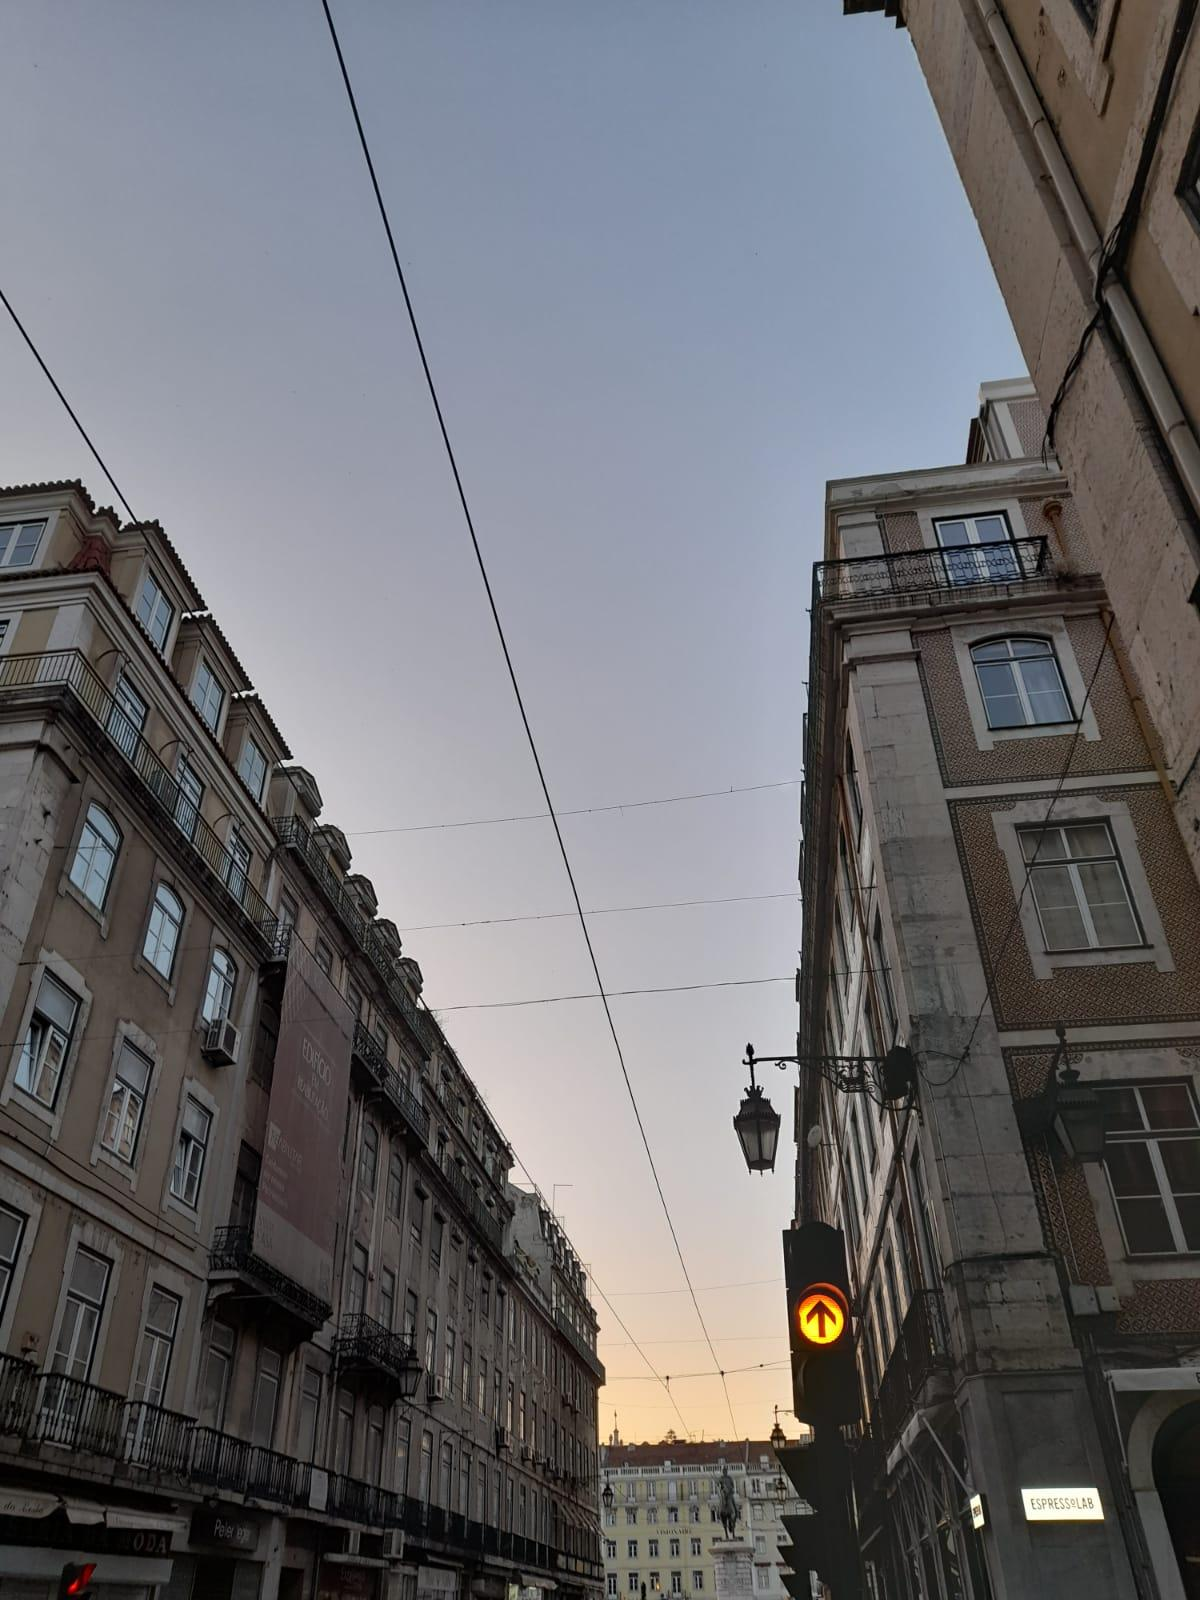yellow_light: (783, 1221, 862, 1424)
